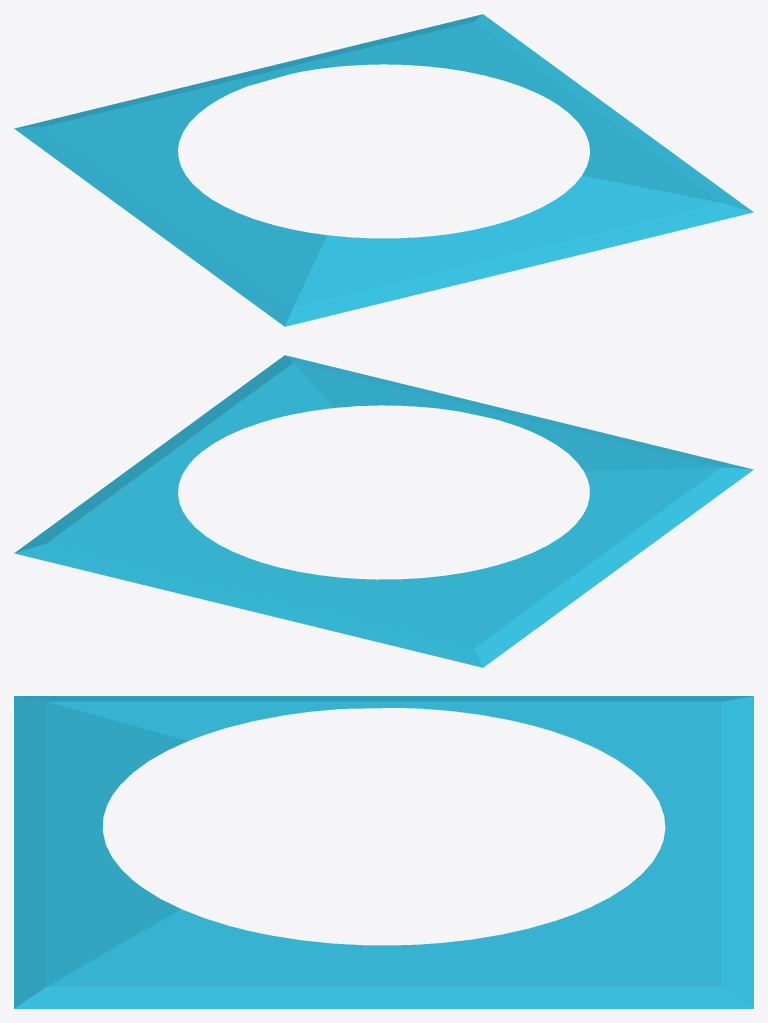
File: City_02_Ground_01 (1).fbx
The picture shows the model from 3 angles, top to bottom: view 1: azimuth 30°, elevation 25°; view 2: azimuth 150°, elevation 25°; view 3: azimuth 270°, elevation 25°; orthographic projection. The views are drawn at different scales.
Parts seen in each view (by area): view 1: Ground.001; view 2: Ground.001; view 3: Ground.001.
Part boxes in pixels (<box>): Ground.001: <box>14,14,753,326</box>; Ground.001: <box>14,355,753,667</box>; Ground.001: <box>14,696,753,1008</box>.
Size of the model in its own units: 105979 by 4100 by 105979.
